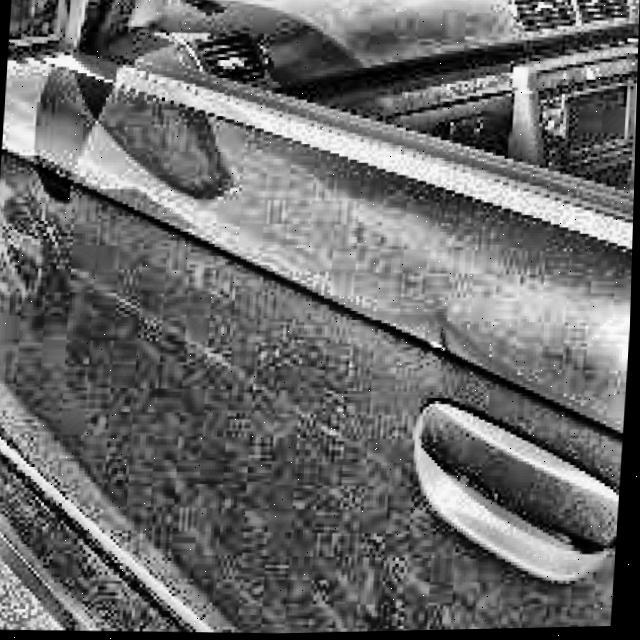door_dent: (389, 303, 496, 360)
